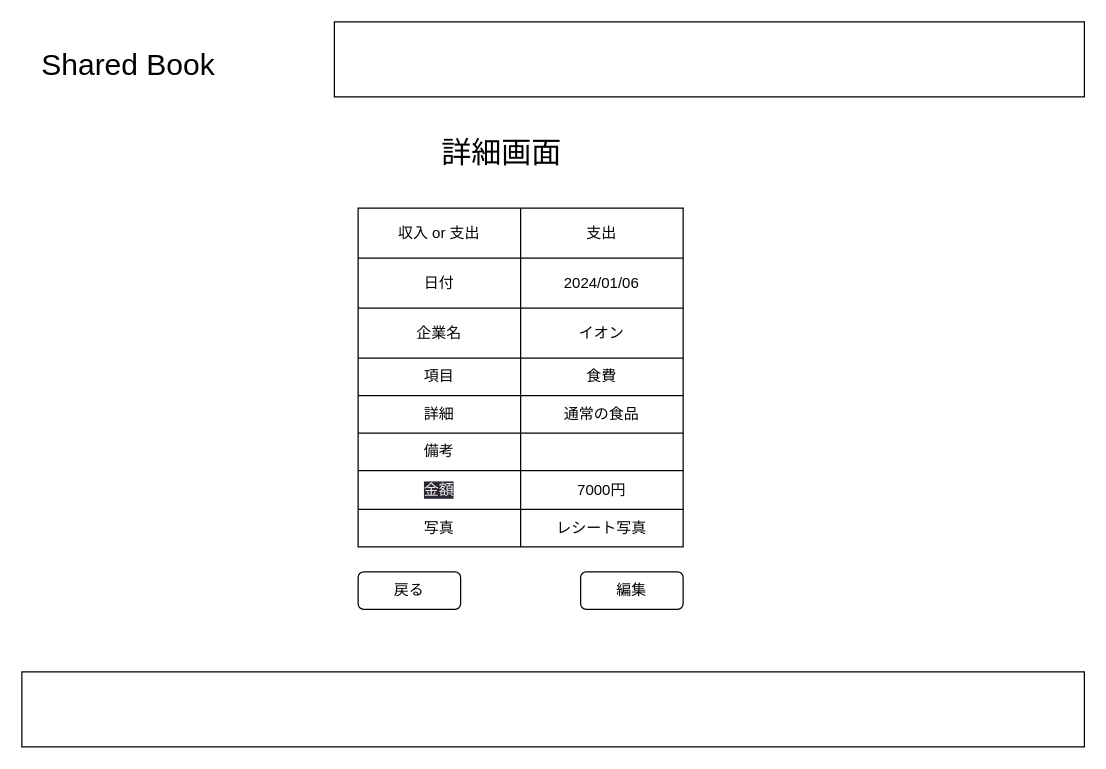
The diagram is 1106 pixels wide and 769 high, and some of its shapes have lost their labels. Here are the shapes that lost their labels. From the top down, the box of each, then its label:
(333, 21, 1084, 97): 収入支出一覧 項目一覧 カレンダー一覧 月別グラフ 割勘一覧 アカウント ログアウト
(21, 671, 1084, 747): @ 2024 Shared Book ALL RIGHTS RESERVED.
